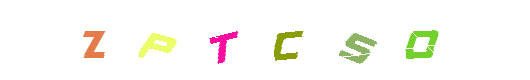0: (321, 0, 401, 80)
C: (224, 0, 304, 80)
P: (130, 0, 210, 80)
S: (319, 0, 399, 80)
T: (183, 0, 263, 80)
Z: (54, 0, 134, 80)
